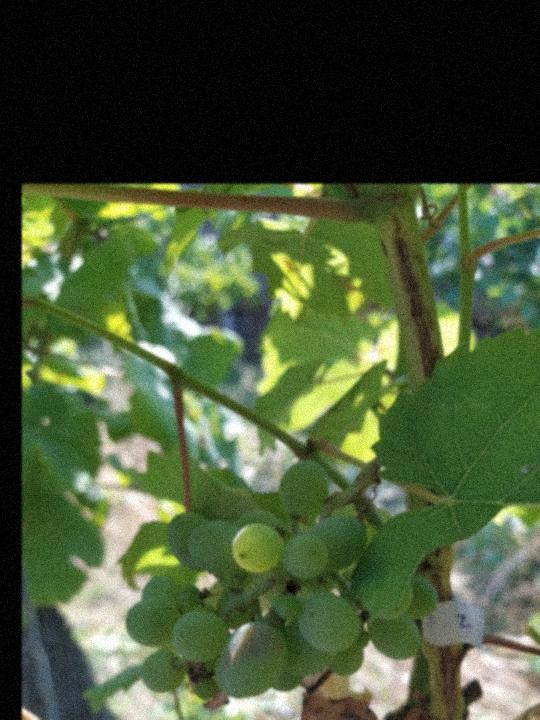grape: (120, 458, 443, 702)
